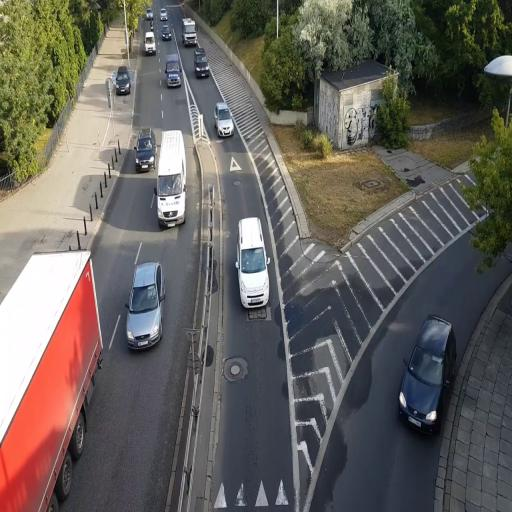vehicle: (0, 250, 104, 508), (398, 315, 458, 436), (125, 259, 165, 351), (236, 216, 270, 313), (156, 130, 187, 227), (135, 130, 156, 170), (163, 52, 182, 88), (113, 68, 131, 95), (193, 50, 210, 77), (183, 20, 197, 47), (158, 22, 172, 42)
